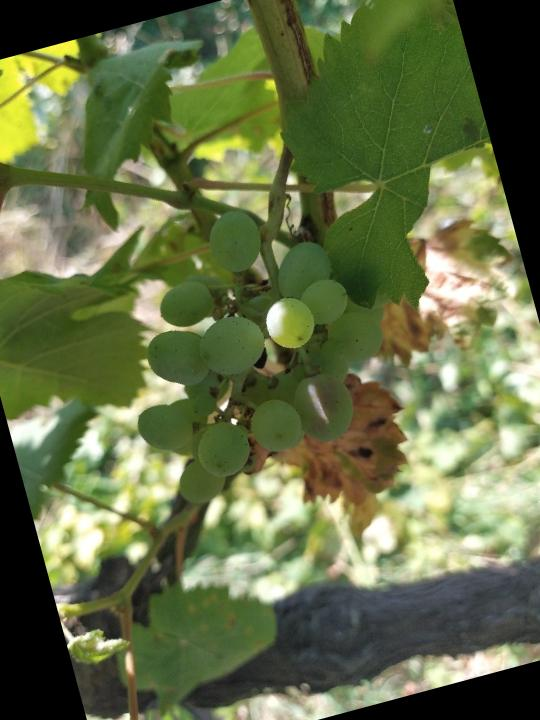grape: (87, 177, 425, 520)
